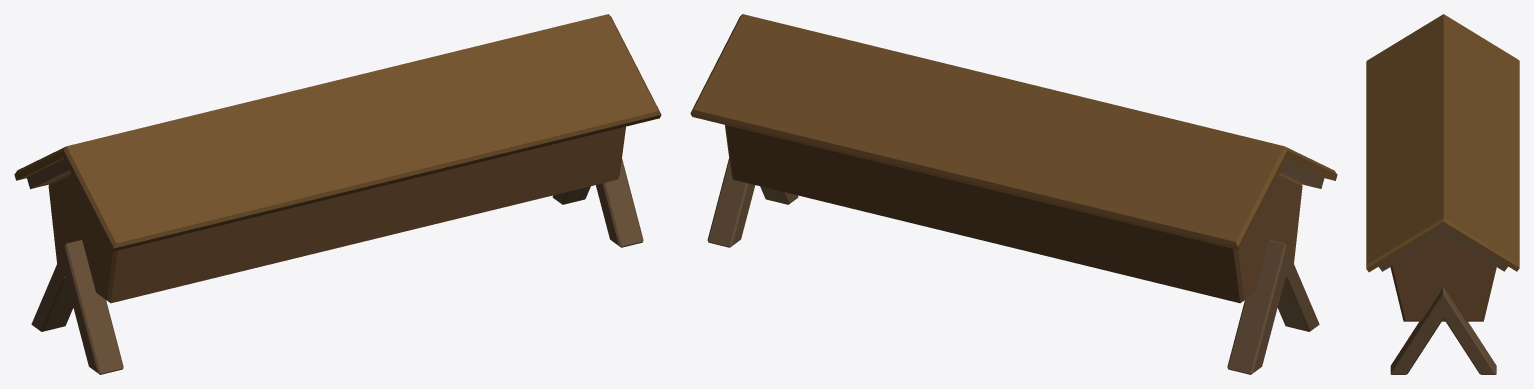
File: littlefoodholder_a.gltf
3 renders of one model, left to right at view 1: azimuth 30°, elevation 25°; view 2: azimuth 150°, elevation 25°; view 3: azimuth 270°, elevation 25°, orthographic. The views are drawn at different scales.
Visible parts, largest first — view 1: littlefoodholder_a001; view 2: littlefoodholder_a001; view 3: littlefoodholder_a001.
Part boxes in pixels (<box>): littlefoodholder_a001: <box>14,14,661,374</box>; littlefoodholder_a001: <box>690,14,1337,374</box>; littlefoodholder_a001: <box>1366,14,1519,374</box>.
Size of the model in its own units: 1.97 by 0.6996 by 0.6201.
1 material, 1 textured.
